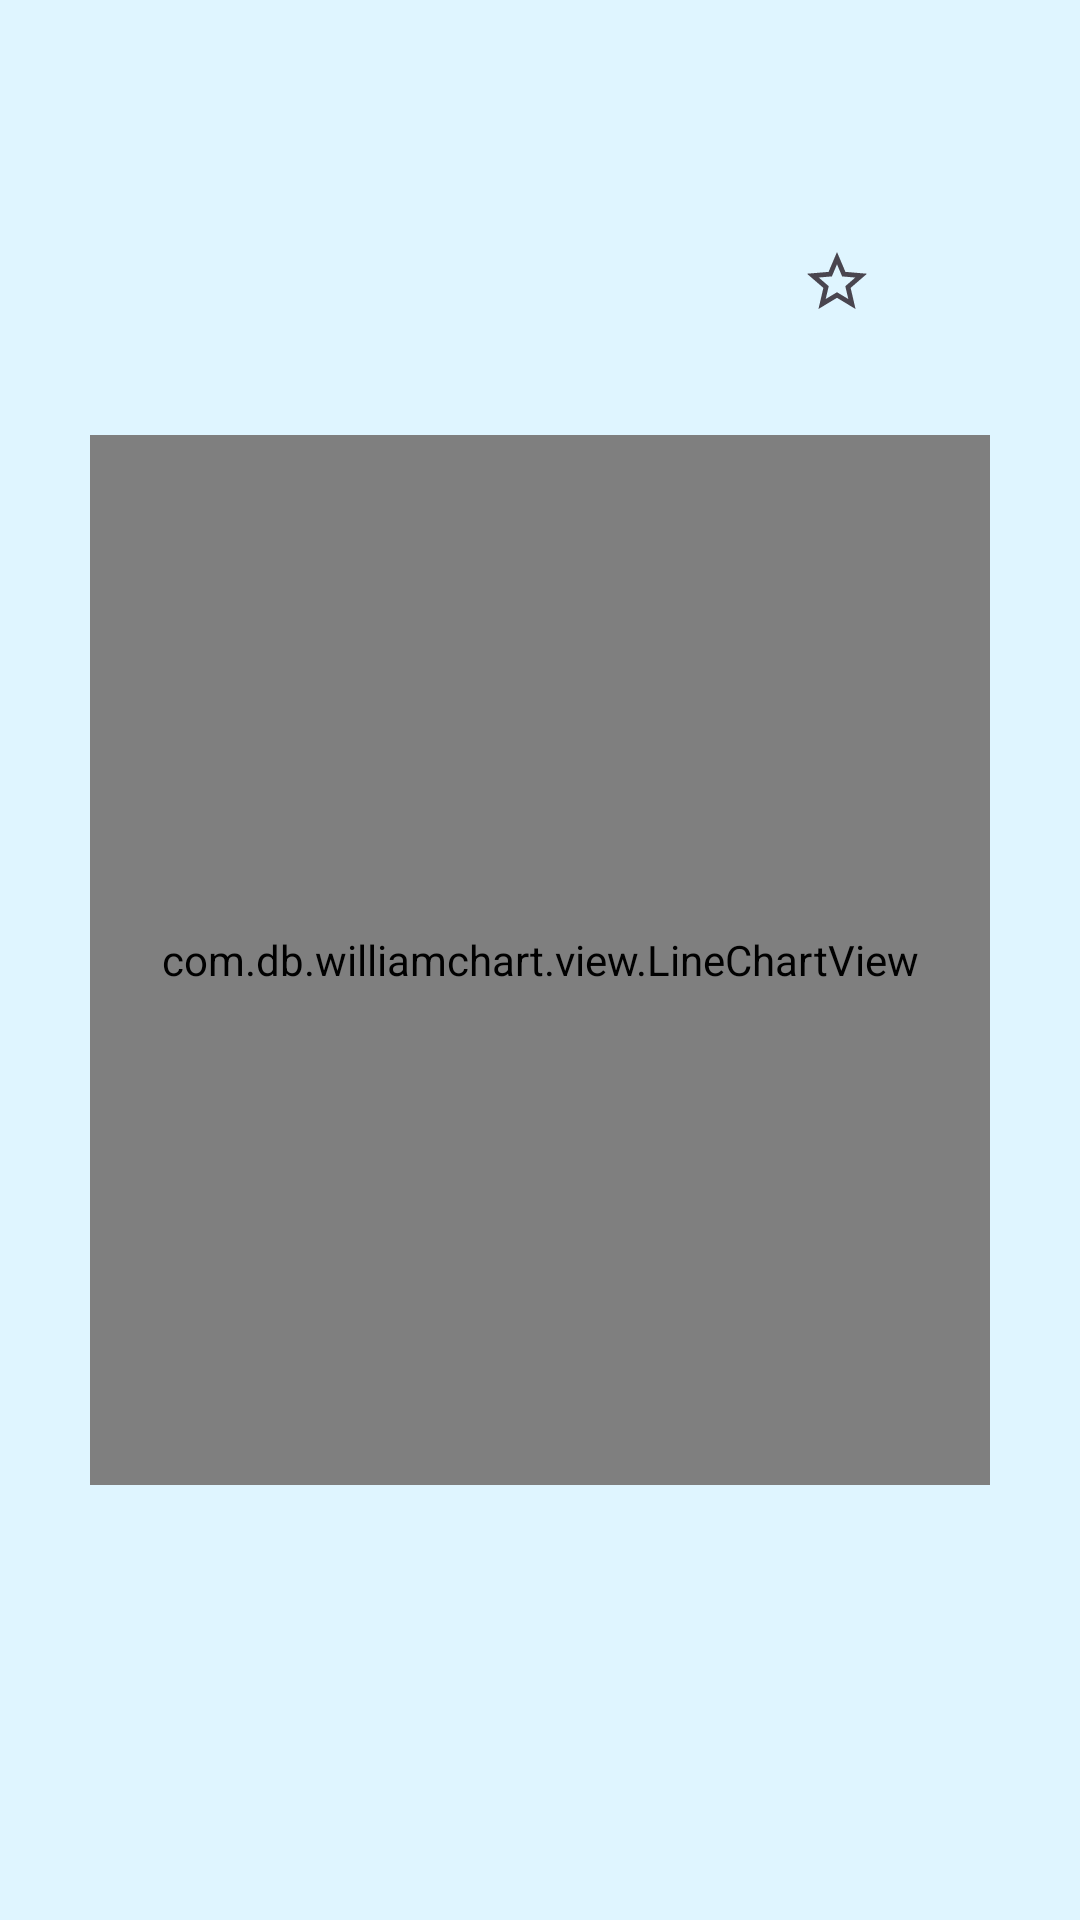

Screen size 1080 × 1920. Icon name, then its box in pixels as rect(x1, y1, x2, y2):
wishlist item: rect(807, 252, 867, 309)
